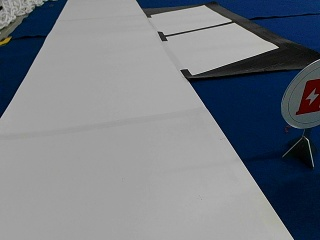battery: (281, 60, 319, 128)
